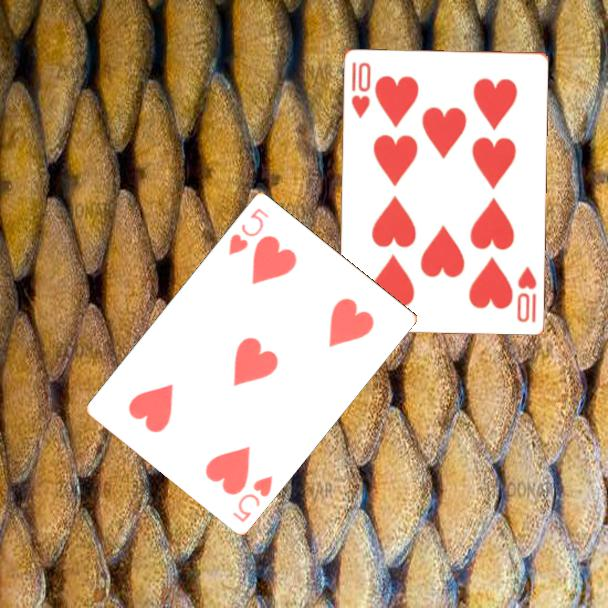h05: (225, 204, 272, 258), (229, 472, 276, 525)
h10: (347, 58, 374, 121), (513, 263, 539, 325)
